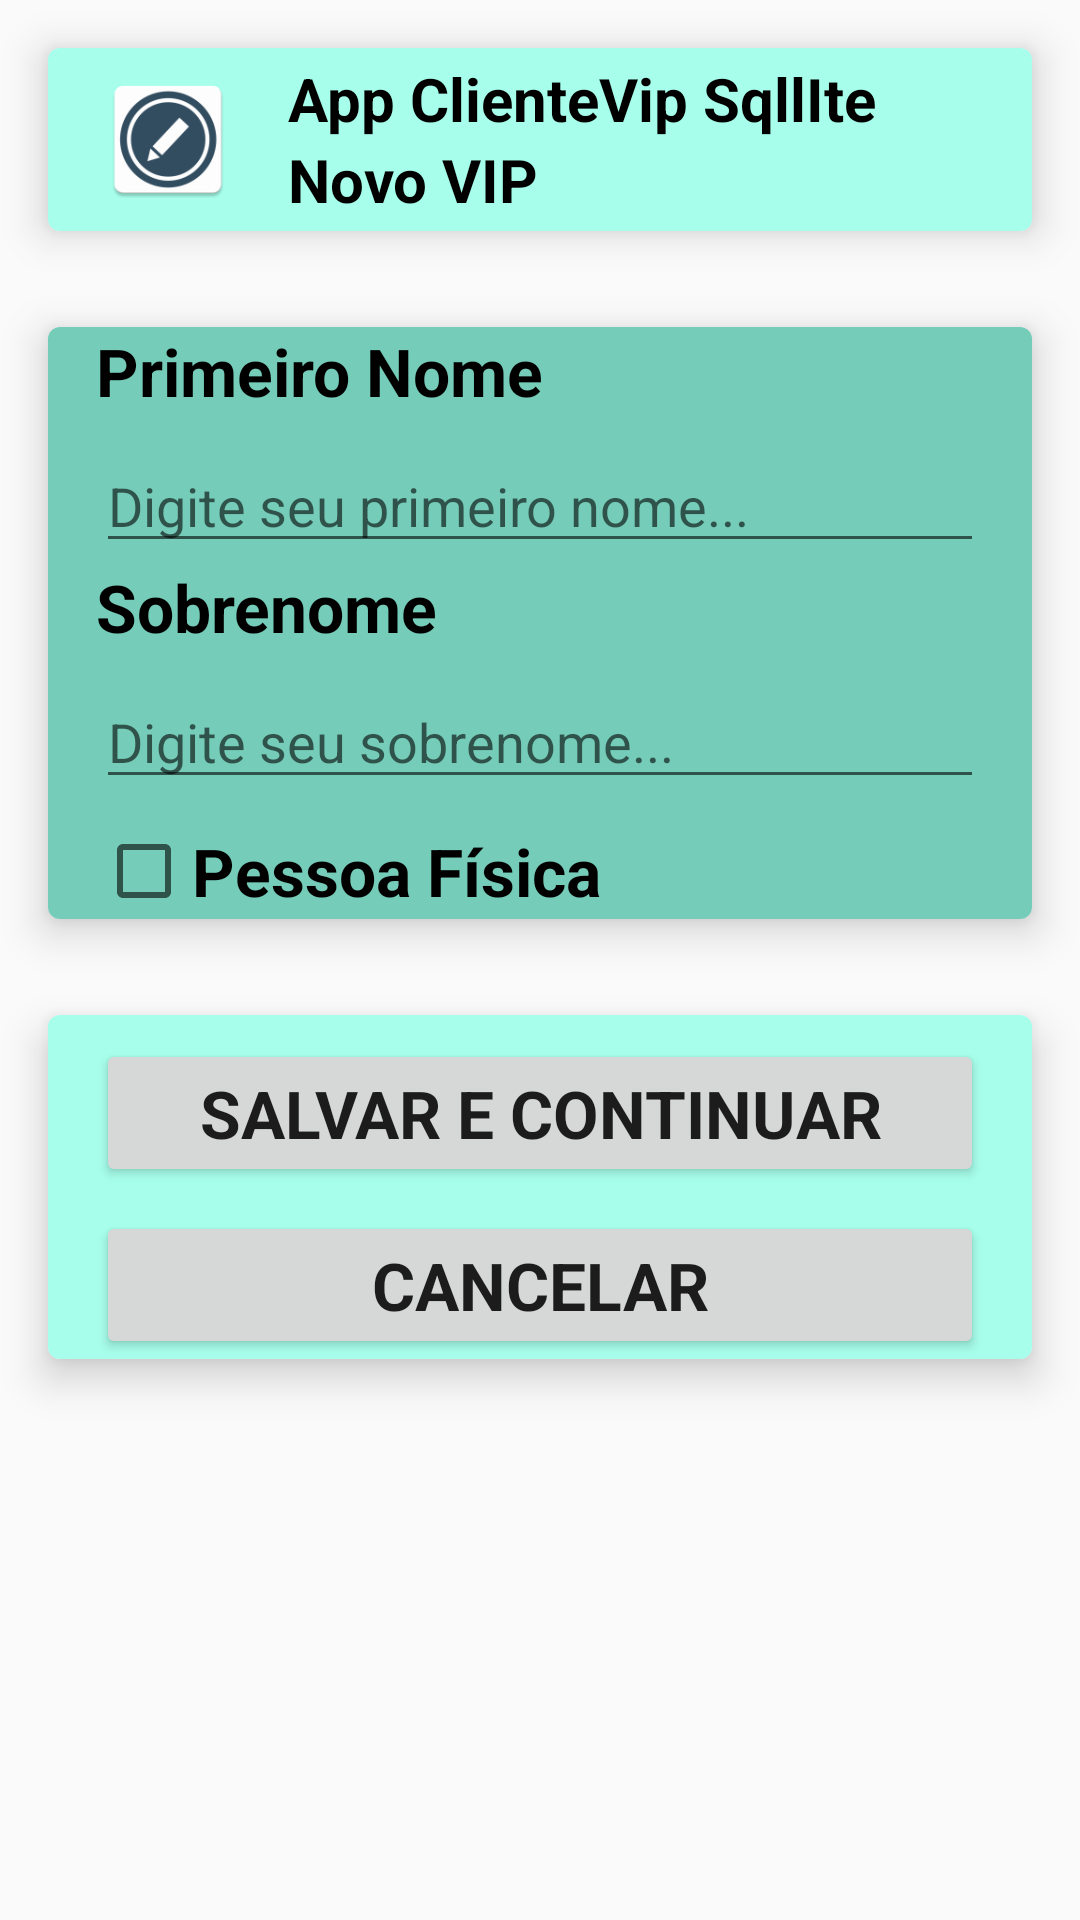

Point at icon controls on the screen. Image size 1080w x 1920h, points as point (x, y).
novo cadastro: point (168, 141)
